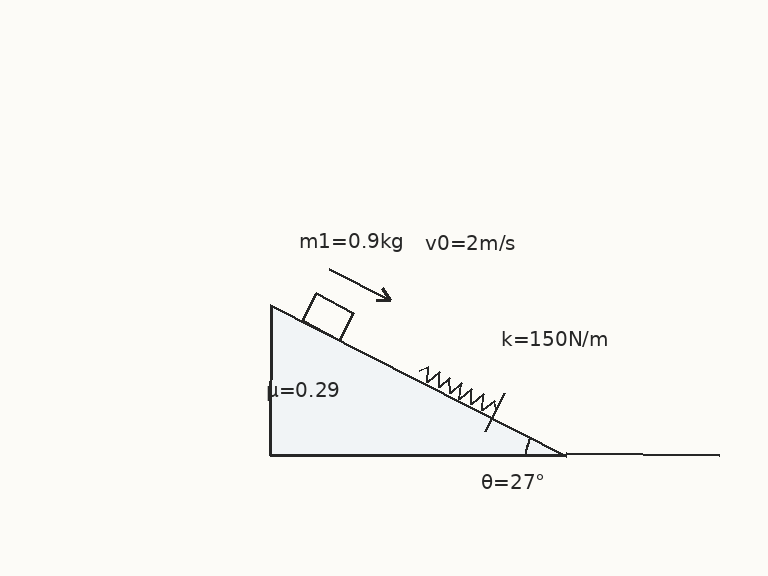block: (300, 291, 355, 342)
ramp: (268, 302, 568, 457)
spring: (417, 365, 498, 412)
